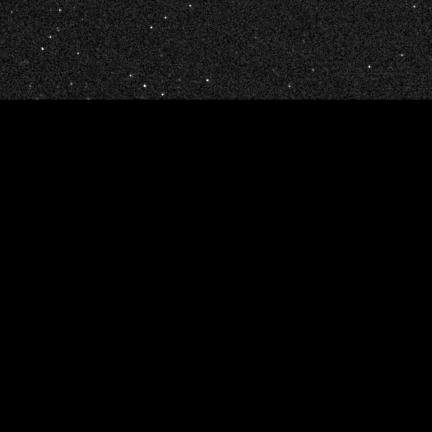blob: (368, 65, 372, 69), (144, 85, 147, 88), (49, 36, 52, 39), (42, 48, 45, 51), (206, 79, 209, 82), (162, 93, 165, 96), (165, 17, 168, 19), (71, 83, 73, 86), (151, 27, 153, 30)
